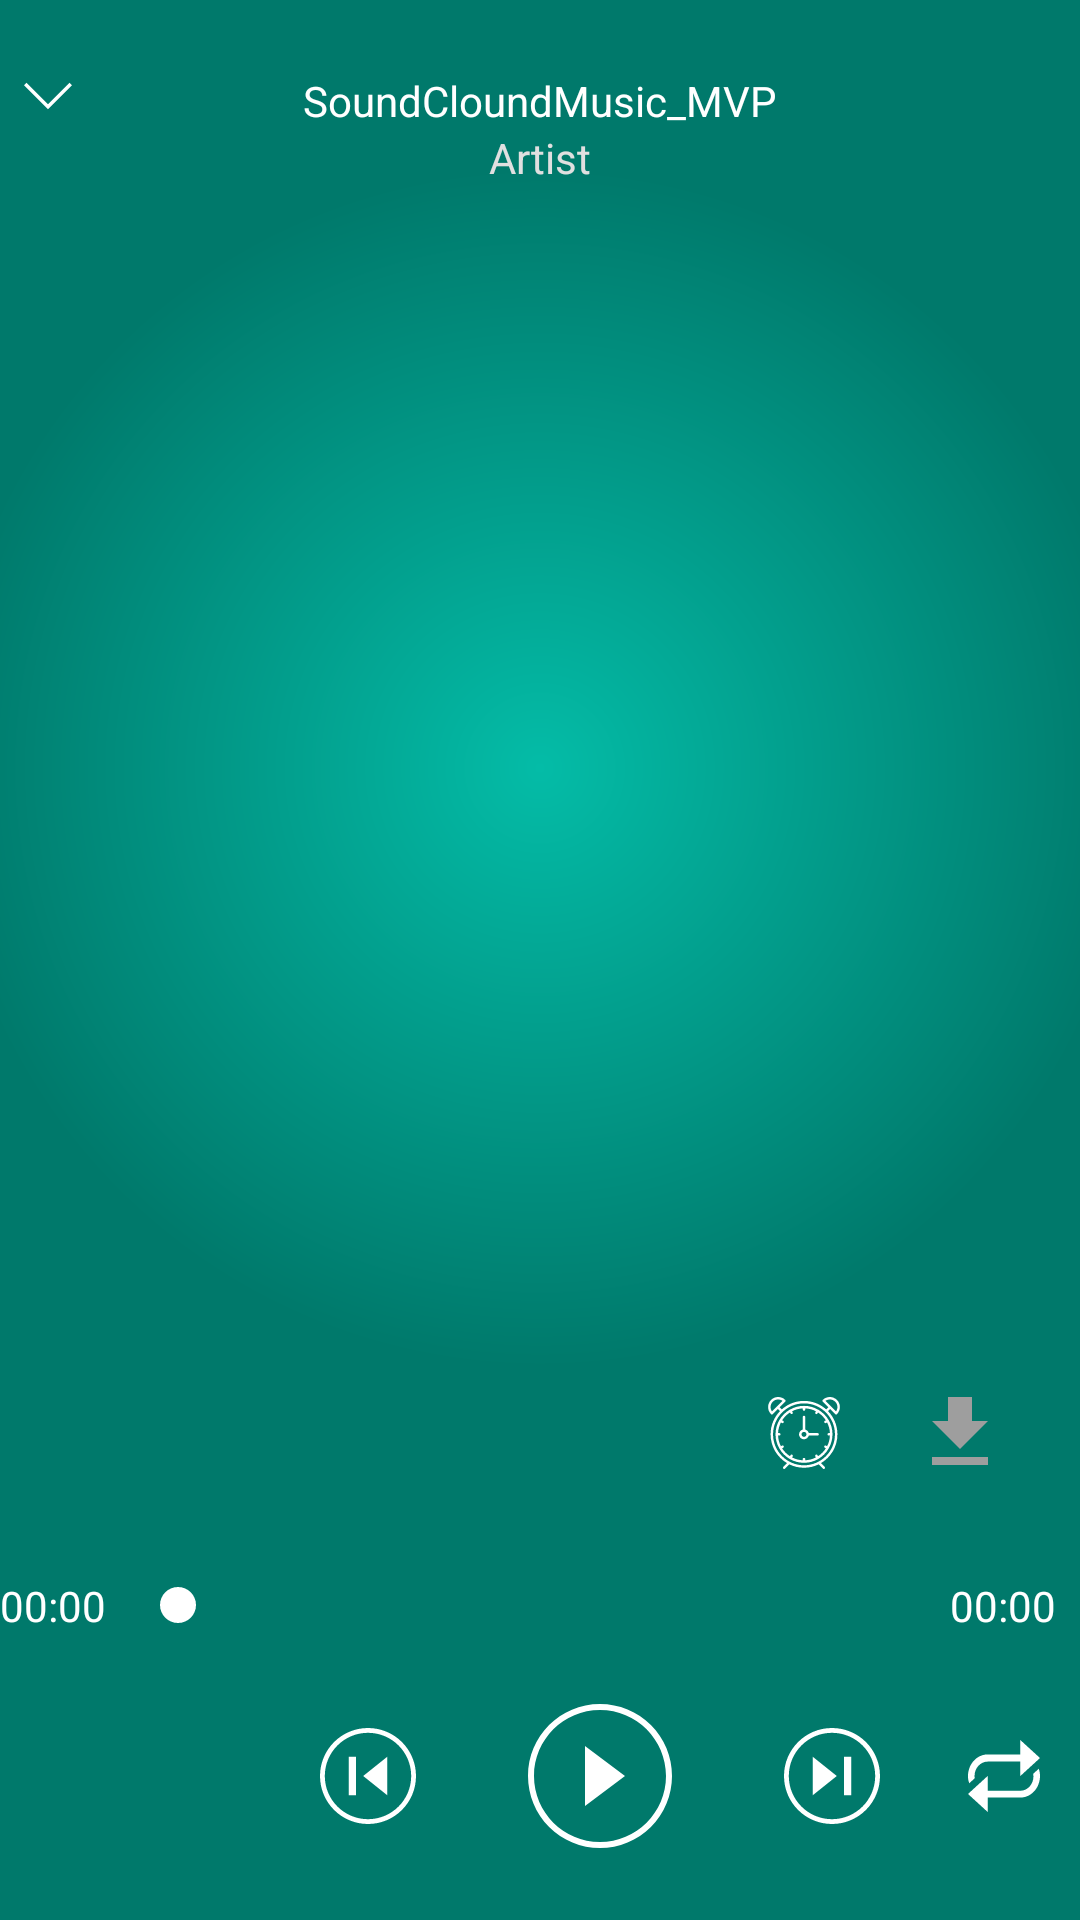

Icons on this 1080w x 1920h Android screen, each with its box as [x1=x1, y1=y1, x2=x2, y2=y2]:
alarm: [x1=768, y1=1397, x2=840, y2=1469]
back: [x1=24, y1=83, x2=72, y2=109]
download: [x1=932, y1=1397, x2=988, y2=1465]
play mode loop: [x1=968, y1=1740, x2=1040, y2=1812]
play next: [x1=784, y1=1728, x2=880, y2=1824]
play previous: [x1=320, y1=1728, x2=416, y2=1824]
play toogle: [x1=528, y1=1704, x2=672, y2=1848]
